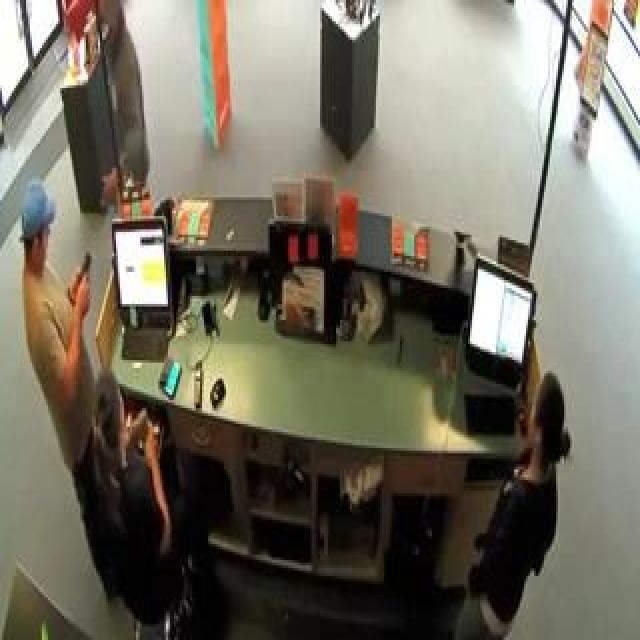high_con: (88, 0, 130, 69)
low_con: (13, 169, 60, 281)
no_con: (523, 367, 575, 464), (87, 366, 135, 459)
